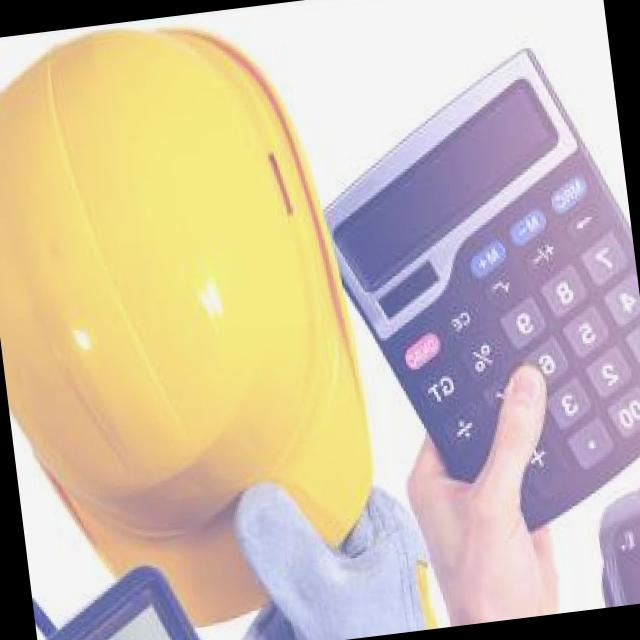helmet: (0, 8, 373, 627)
